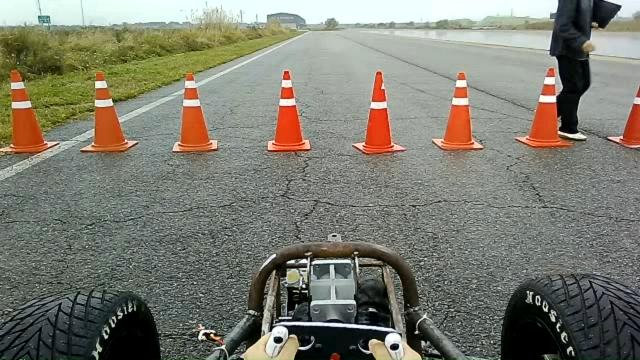red cone: (0, 68, 60, 154), (80, 70, 138, 153), (502, 69, 561, 150), (352, 69, 406, 155), (431, 71, 484, 152), (171, 71, 218, 153), (266, 69, 311, 152), (605, 84, 637, 149)
